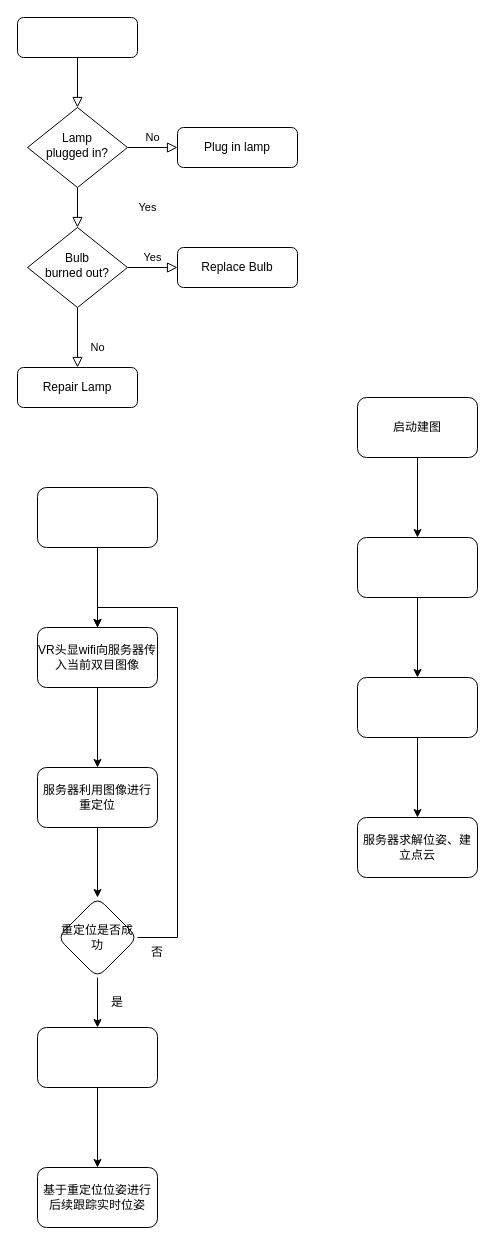
Some shapes in this 495 by 1245 pixel diagram are drawn without their labels. Each missing label, with the centre of its shape:
Lamp doesn't work: point (77, 37)
VR头显采集双目图像数据和IMU数据: point (417, 567)
wifi传输到服务器: point (417, 707)
将重定位位姿传回VR设备: point (97, 1057)
服务器启动重定位模块: point (97, 517)
